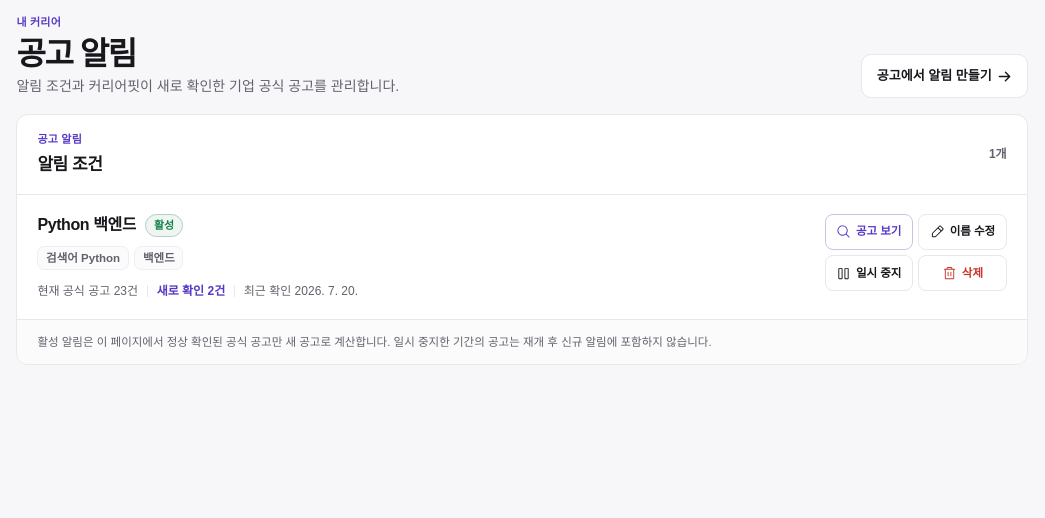
Test: SavedSearchManager › keeps a failed rename editable and associates the error with its input
Click the button "이름 수정". click: {"x": 963, "y": 232}
box: [918,214,1007,250]
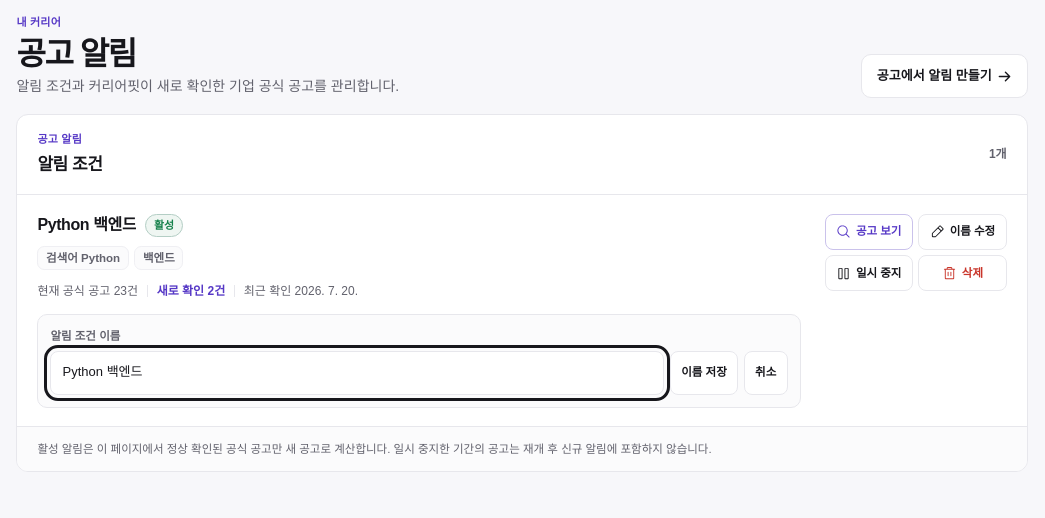
Replace the text in the field labelled "알림 조건 이름" with "새 알림 이름". click: {"x": 357, "y": 373}
box: [50,351,664,395]
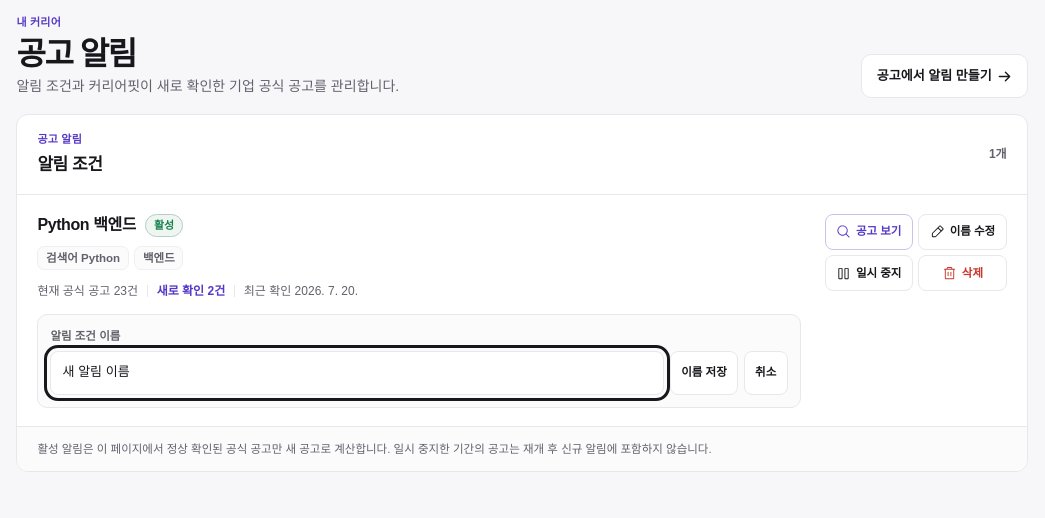
Click the button "이름 저장". click: {"x": 704, "y": 373}
box: [670,351,738,395]
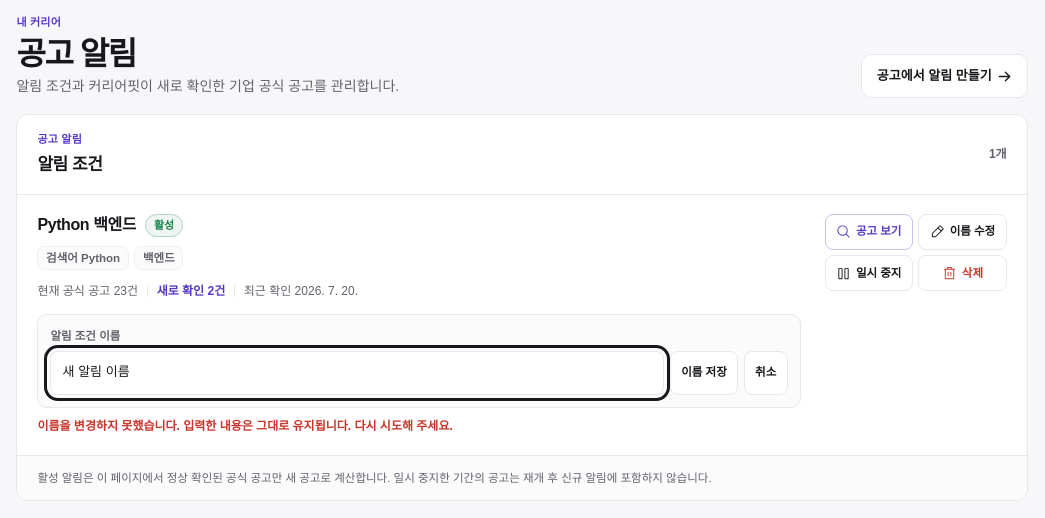
Expected: the message does not show "raw provider rename failure", [37,419,453,433]
Expected: the message reads "이름을 변경하지 못했습니다. 입력한 내용은 그대로 유지됩니다. 다시 시도해 주세요.", [37,419,453,433]
